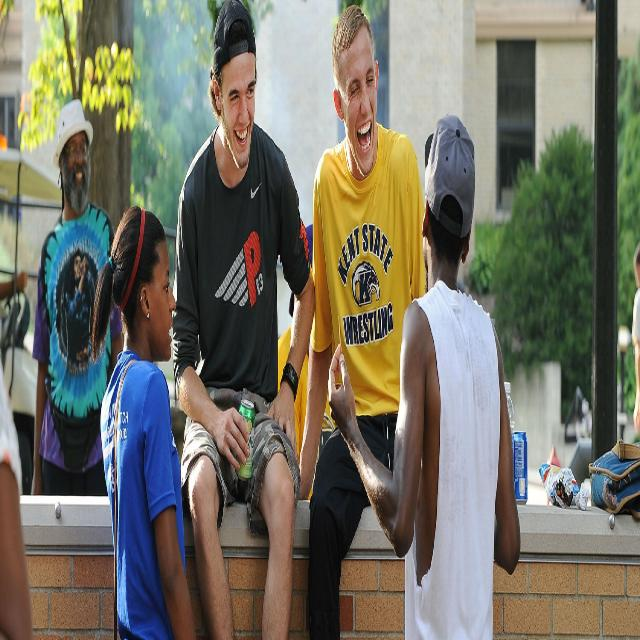body: (325, 111, 524, 639), (169, 0, 317, 639), (292, 1, 430, 639), (89, 203, 198, 640), (28, 98, 126, 497), (268, 172, 322, 534), (0, 286, 38, 639), (630, 240, 640, 438)
